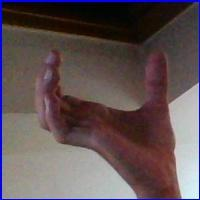space: (28, 38, 182, 169)
